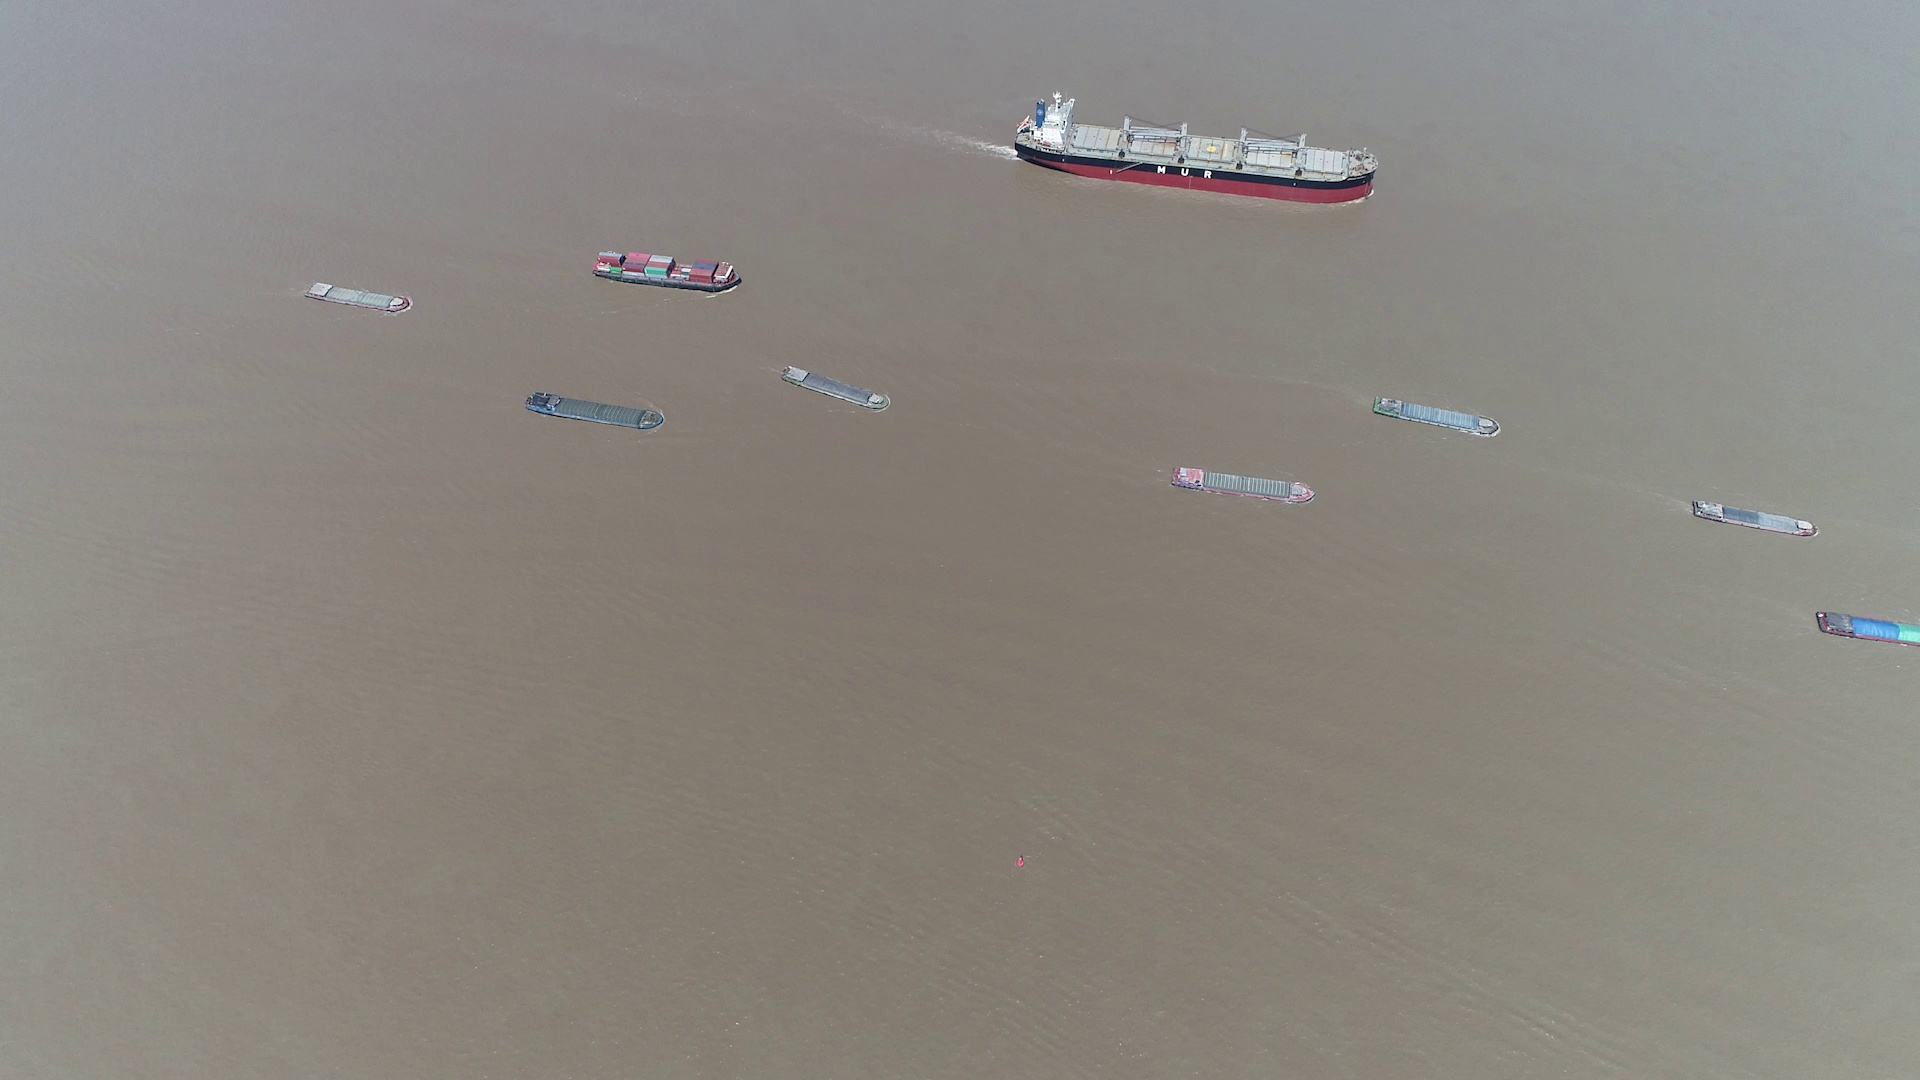ship: (1010, 98, 1375, 200), (589, 251, 741, 291), (525, 392, 662, 431), (1371, 396, 1501, 436), (1171, 465, 1312, 502), (781, 365, 891, 411), (1691, 498, 1813, 538), (1817, 609, 1919, 645), (307, 281, 411, 313)
